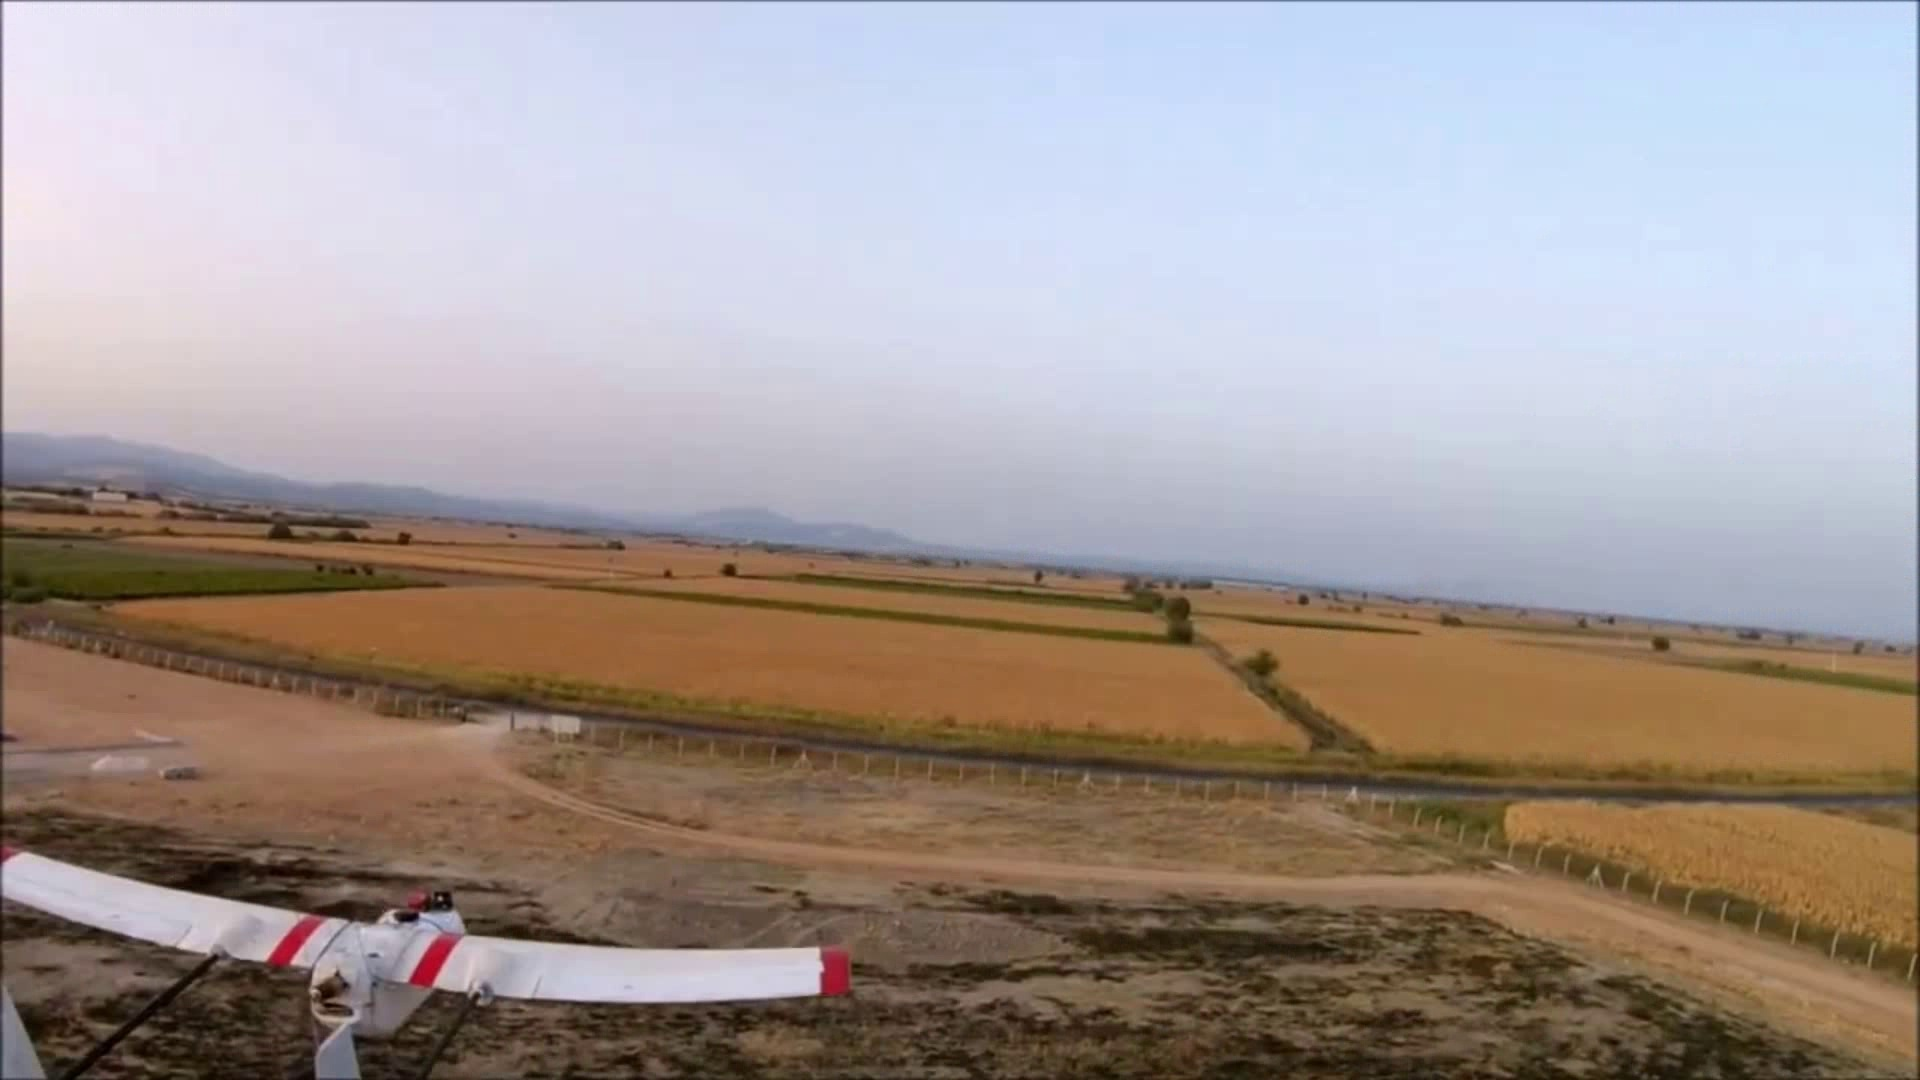airplane: (0, 848, 857, 1067)
